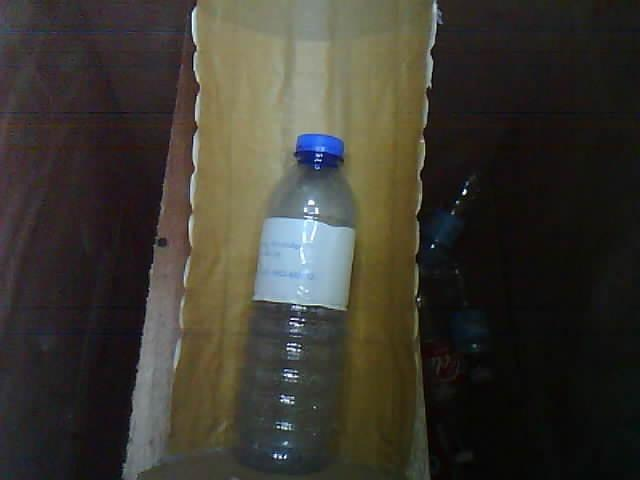small_bottle: (217, 124, 369, 480)
